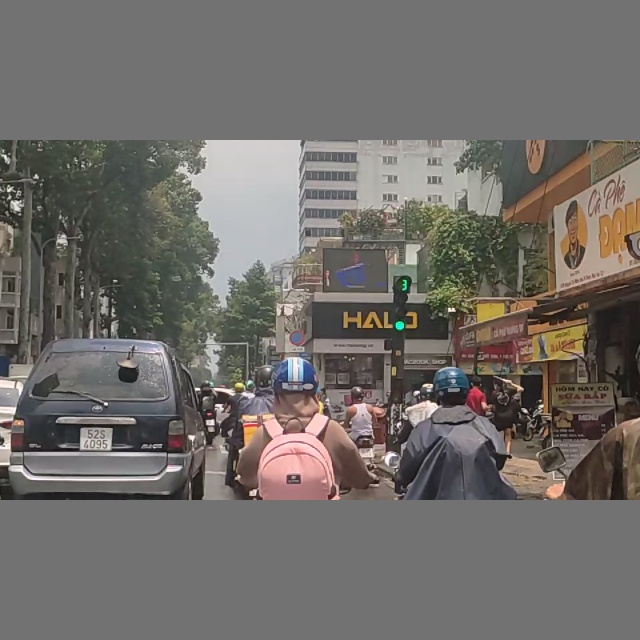P.131a: (289, 329, 307, 347)
